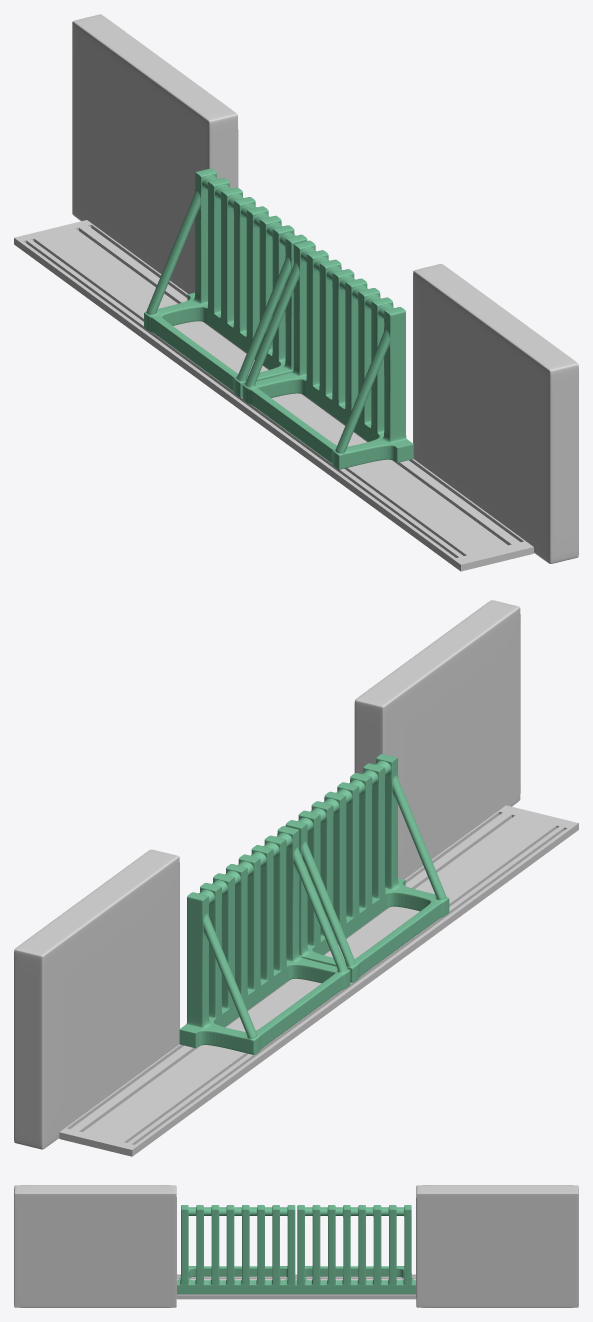
3 views of the same model, one above another, from view 1: azimuth 30°, elevation 25°; view 2: azimuth 150°, elevation 25°; view 3: azimuth 270°, elevation 25° (orthographic). The views are drawn at different scales.
Visible parts, largest first — view 1: 扉, 壁1, 壁2, rail; view 2: 扉, 壁2, 壁1, rail; view 3: 壁1, 壁2, 扉, rail.
Part boxes in pixels (left/top/right/bottom): 扉: left=144, top=168, right=413, bottom=469; 壁1: left=413, top=264, right=578, bottom=563; 壁2: left=72, top=14, right=238, bottom=294; rail: left=14, top=220, right=533, bottom=571; 扉: left=179, top=754, right=449, bottom=1054; 壁2: left=14, top=849, right=179, bottom=1149; 壁1: left=354, top=600, right=520, bottom=879; rail: left=59, top=805, right=578, bottom=1156; 壁1: left=14, top=1185, right=176, bottom=1307; 壁2: left=416, top=1185, right=578, bottom=1307; 扉: left=177, top=1205, right=415, bottom=1293; rail: left=176, top=1274, right=416, bottom=1299.
Bounding box in the file's own units: 2.64 × 4.76 × 21.19.
